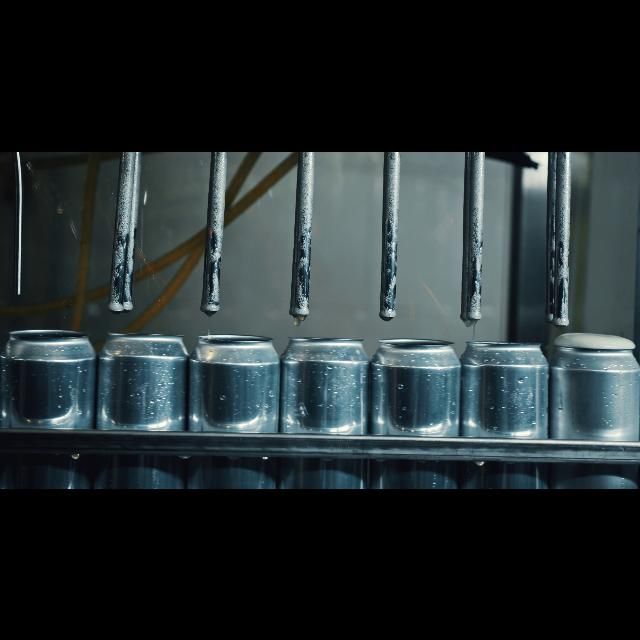empty: (4, 312, 94, 488), (100, 316, 188, 488), (460, 326, 546, 488), (194, 320, 276, 488), (285, 328, 371, 488), (378, 324, 454, 488)
full: (550, 318, 640, 488)
